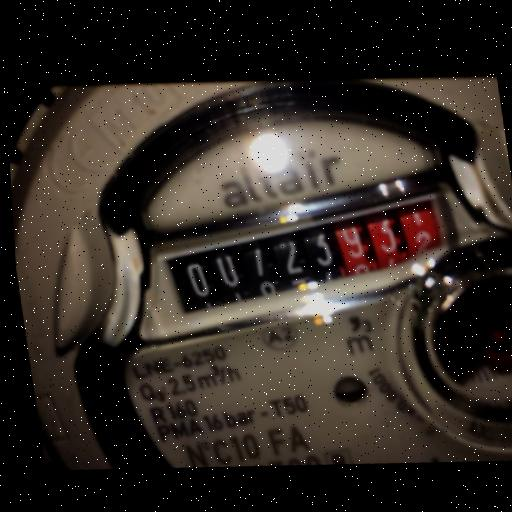0: (207, 243, 254, 306), (176, 252, 222, 314)
2: (270, 230, 317, 291), (398, 208, 440, 261)
3: (301, 224, 343, 284), (365, 215, 405, 272)
7: (238, 237, 285, 300)
9: (334, 221, 373, 277)
border_water_meter_number: (111, 169, 473, 364)
